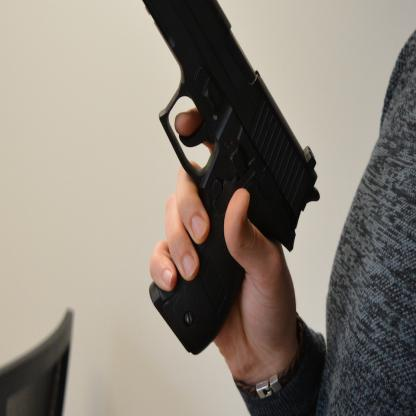gun: (114, 0, 322, 357)
